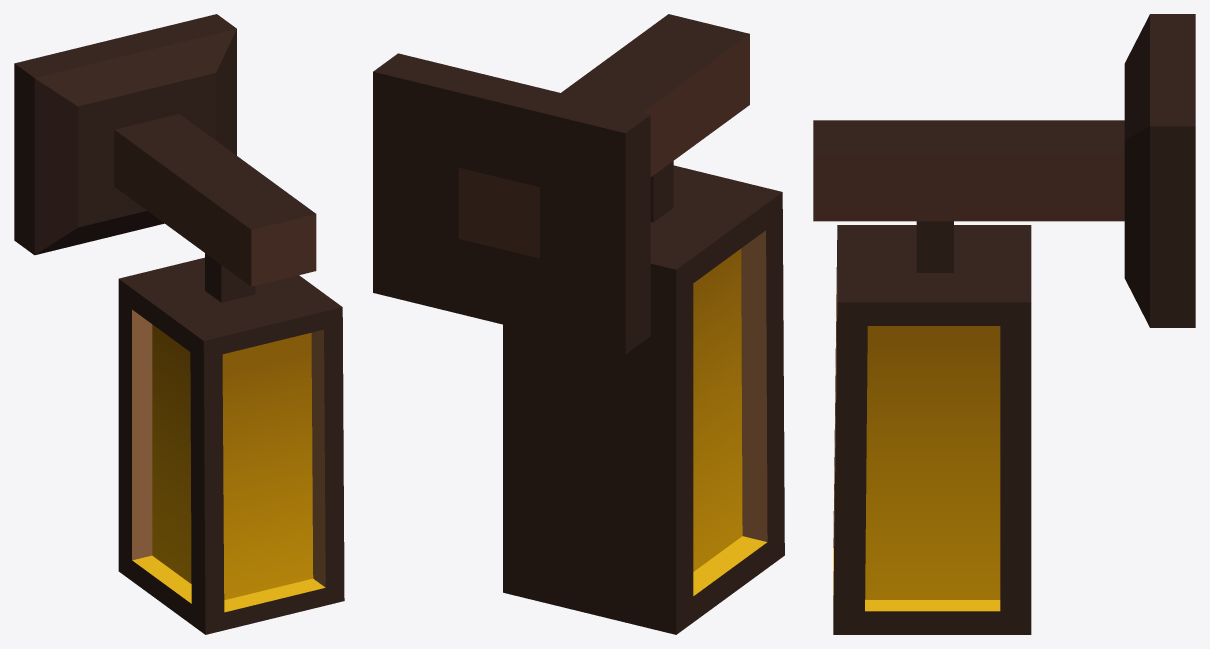
Rendered from Outdoor Box Lamp3.glb.
3 views of the same model, side by side, from view 1: azimuth 30°, elevation 25°; view 2: azimuth 150°, elevation 25°; view 3: azimuth 270°, elevation 25° (orthographic). The views are drawn at different scales.
Visible parts, largest first — view 1: Outdoor Box Lamp3; view 2: Outdoor Box Lamp3; view 3: Outdoor Box Lamp3.
Boxes of the visible parts, <box> form: Outdoor Box Lamp3: <box>14,14,344,634</box>; Outdoor Box Lamp3: <box>373,14,784,634</box>; Outdoor Box Lamp3: <box>813,14,1195,634</box>.
Size of the model in its own units: 0.5766 by 1.26 by 0.8299.
Materials: 1 (1 with a texture image).
